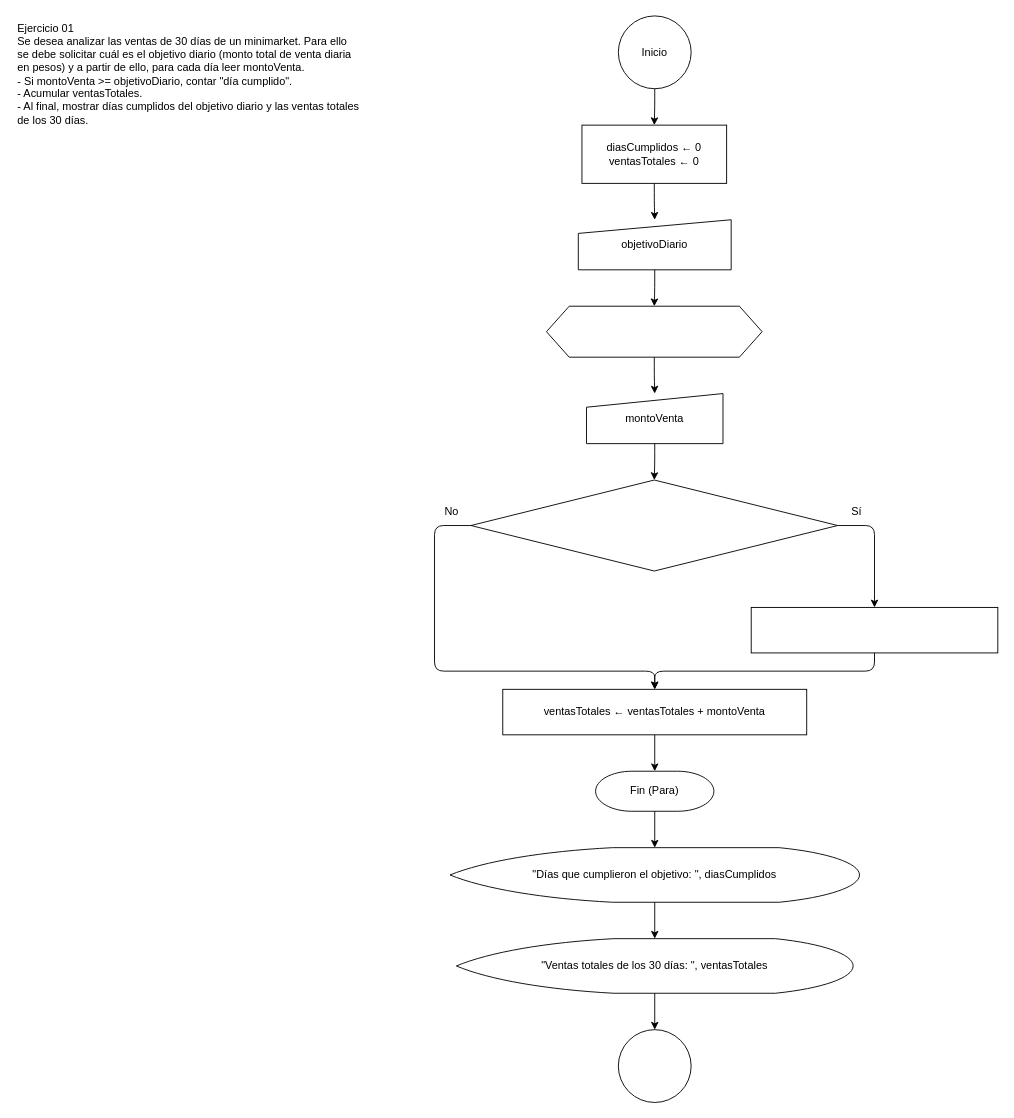
This 1014x1118 diagram has some shape labels left out. The shapes that lost their labels are listed below. From the top down, each one's centre as x and y in pixels, then its label:
At (654,331): "Para dia ← 1 , 30 , 1".
At (654,525): "montoVenta >= objetivoDiario".
At (874,630): "diasCumplidos ← diasCumplidos + 1".
At (654,1065): "Fin".
